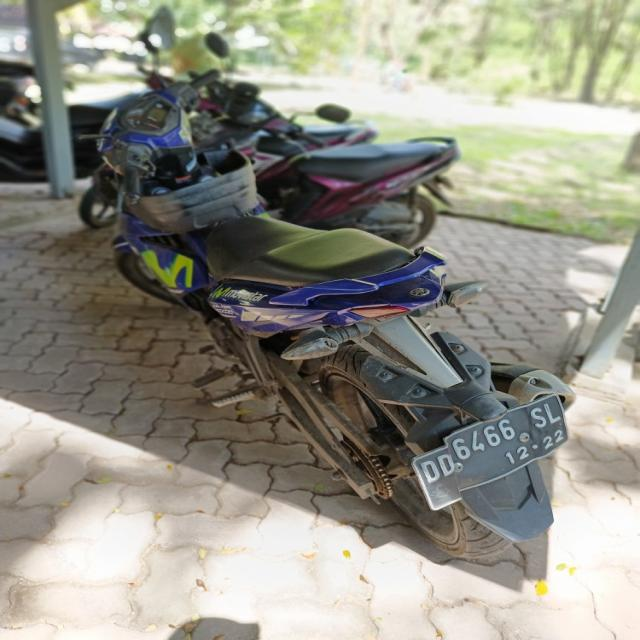plates: (408, 392, 570, 510)
